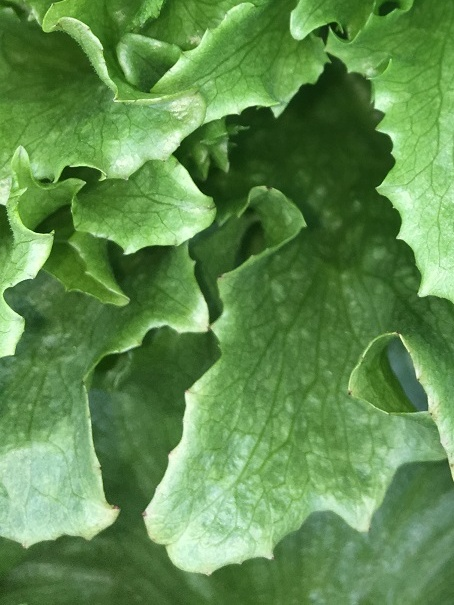tipburn: (51, 16, 68, 32), (213, 269, 228, 287), (180, 385, 199, 399), (201, 319, 218, 334), (17, 539, 35, 553), (109, 500, 125, 515), (138, 506, 153, 522), (390, 327, 406, 342), (109, 92, 124, 107), (200, 567, 216, 581), (425, 405, 439, 421), (262, 181, 278, 195), (345, 383, 358, 400), (264, 552, 279, 566), (164, 448, 178, 462), (78, 376, 90, 389), (438, 437, 449, 449)
